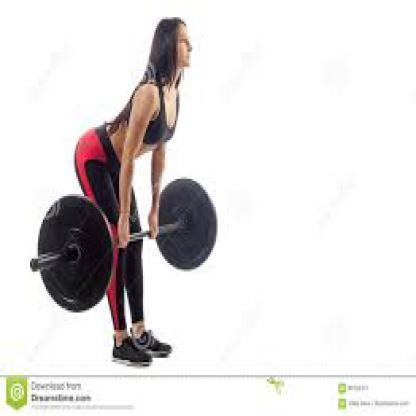barbell: (29, 175, 218, 314)
